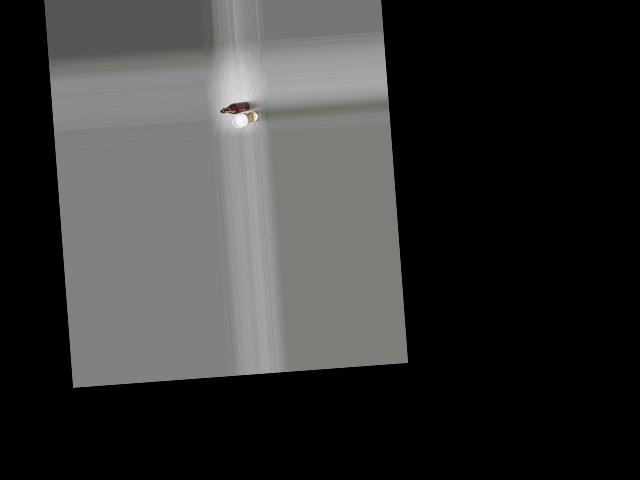beer: (219, 100, 251, 115)
